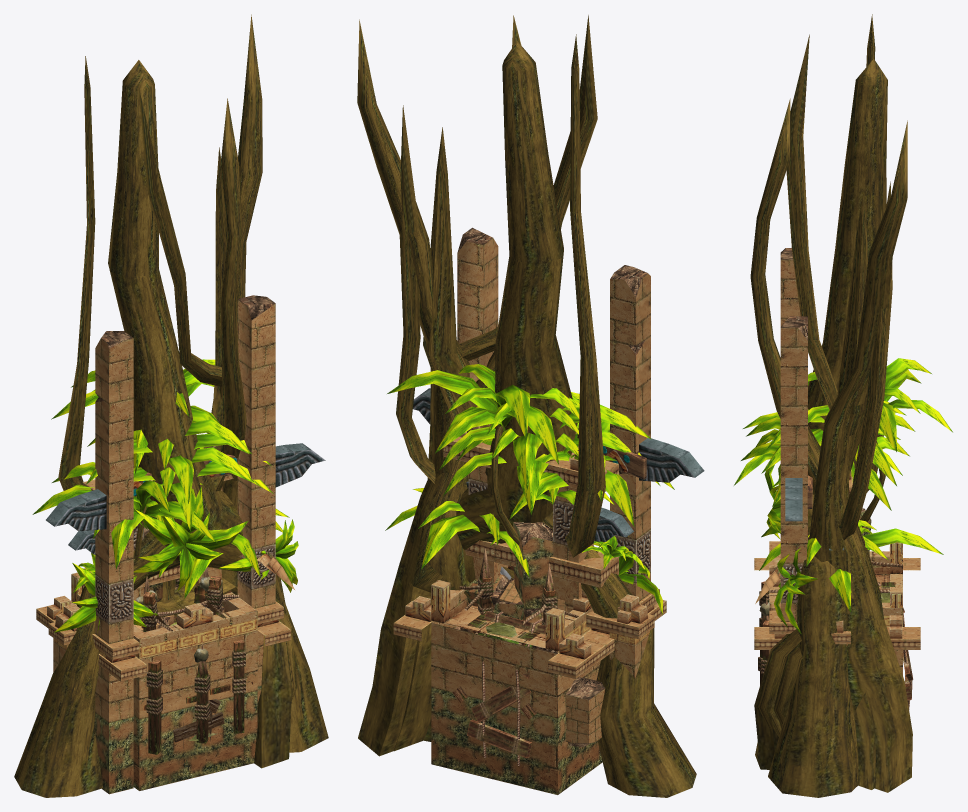
The model's file is TerrainT.FBX.
3 renders of one model, left to right at view 1: azimuth 30°, elevation 25°; view 2: azimuth 150°, elevation 25°; view 3: azimuth 270°, elevation 25°, orthographic. The views are drawn at different scales.
Visible parts, largest first — view 1: Obstructions05, TempleRoad04, Obstructions04, TempleRoad07, TempleRoad06, Tree03, Obstructions06, WoodBridgeRoad03, TempleRoad03, Tree02, TempleRoad05, Tree01 (+5 smaller); view 2: Obstructions05, TempleRoad04, TempleRoad05, Obstructions06, Obstructions04, Tree03, Ruins01, TempleRoad03, TempleRoad08, Tree02, TempleRoad02, Ruins02 (+5 smaller); view 3: Obstructions05, Obstructions06, Obstructions04, TempleRoad04, Tree03, TempleRoad03, Tree01, Tree02, TempleRoad02, WoodBridgeRoad03, TempleRoad06, TempleRoad05 (+1 smaller).
Part boxes in pixels (box(x1,y1,x2,y2)): Obstructions05: box(14, 56, 328, 797); TempleRoad04: box(46, 295, 325, 794); Obstructions04: box(134, 14, 297, 768); TempleRoad07: box(78, 574, 245, 790); TempleRoad06: box(71, 574, 257, 777); Tree03: box(32, 359, 294, 598); Obstructions06: box(220, 98, 288, 619); WoodBridgeRoad03: box(143, 639, 252, 754); TempleRoad03: box(36, 595, 290, 790); Tree02: box(86, 419, 271, 621); TempleRoad05: box(71, 572, 247, 785); Tree01: box(133, 447, 273, 595); Obstructions05: box(413, 34, 696, 797); TempleRoad04: box(413, 227, 704, 612); TempleRoad05: box(431, 580, 564, 794); Obstructions06: box(358, 15, 521, 756); Obstructions04: box(357, 15, 597, 751); Tree03: box(385, 364, 674, 619); Ruins01: box(443, 424, 645, 612); TempleRoad03: box(393, 596, 666, 794); TempleRoad08: box(460, 608, 557, 765); Tree02: box(439, 392, 651, 519); TempleRoad02: box(450, 590, 654, 678); Ruins02: box(513, 522, 553, 623); Obstructions05: box(764, 14, 887, 797); Obstructions06: box(750, 98, 912, 792); Obstructions04: box(754, 34, 907, 789); TempleRoad04: box(769, 248, 887, 633); Tree03: box(734, 358, 952, 611); TempleRoad03: box(754, 547, 920, 649); Tree01: box(741, 428, 909, 510); Tree02: box(746, 381, 915, 486); TempleRoad02: box(769, 580, 902, 675); WoodBridgeRoad03: box(758, 581, 769, 685); TempleRoad06: box(769, 542, 902, 602); TempleRoad05: box(769, 556, 902, 607).
Size of what is drawn, in the model's own units: 1241 by 2833 by 824.
